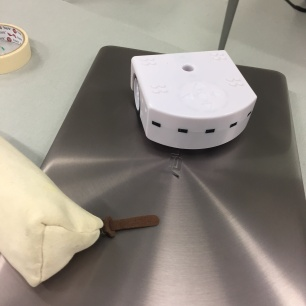thymio: (119, 42, 262, 162)
